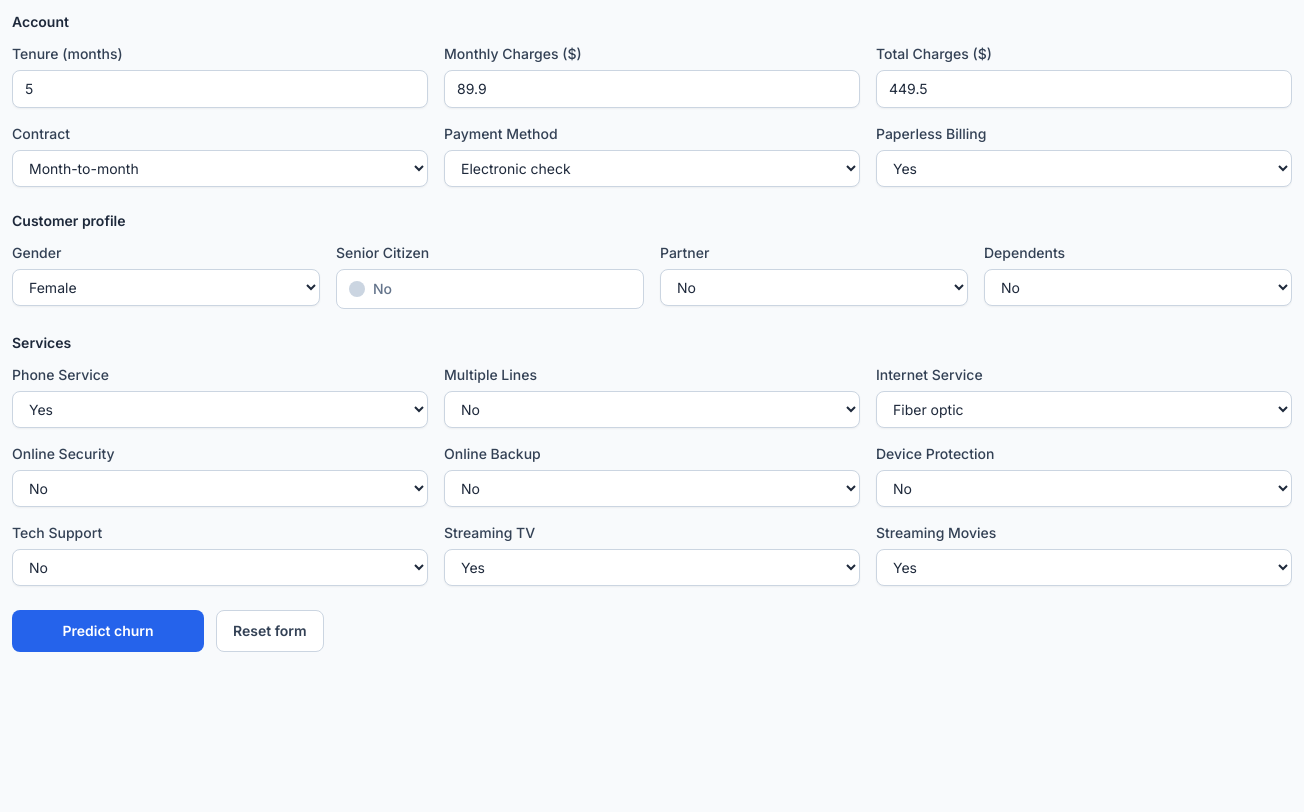
Test case: PredictionForm › resets the form
Replace the text in the number field labelled "Tenure (months)" with "42": coordinates (220, 89) x1=12 y1=70 x2=428 y2=108
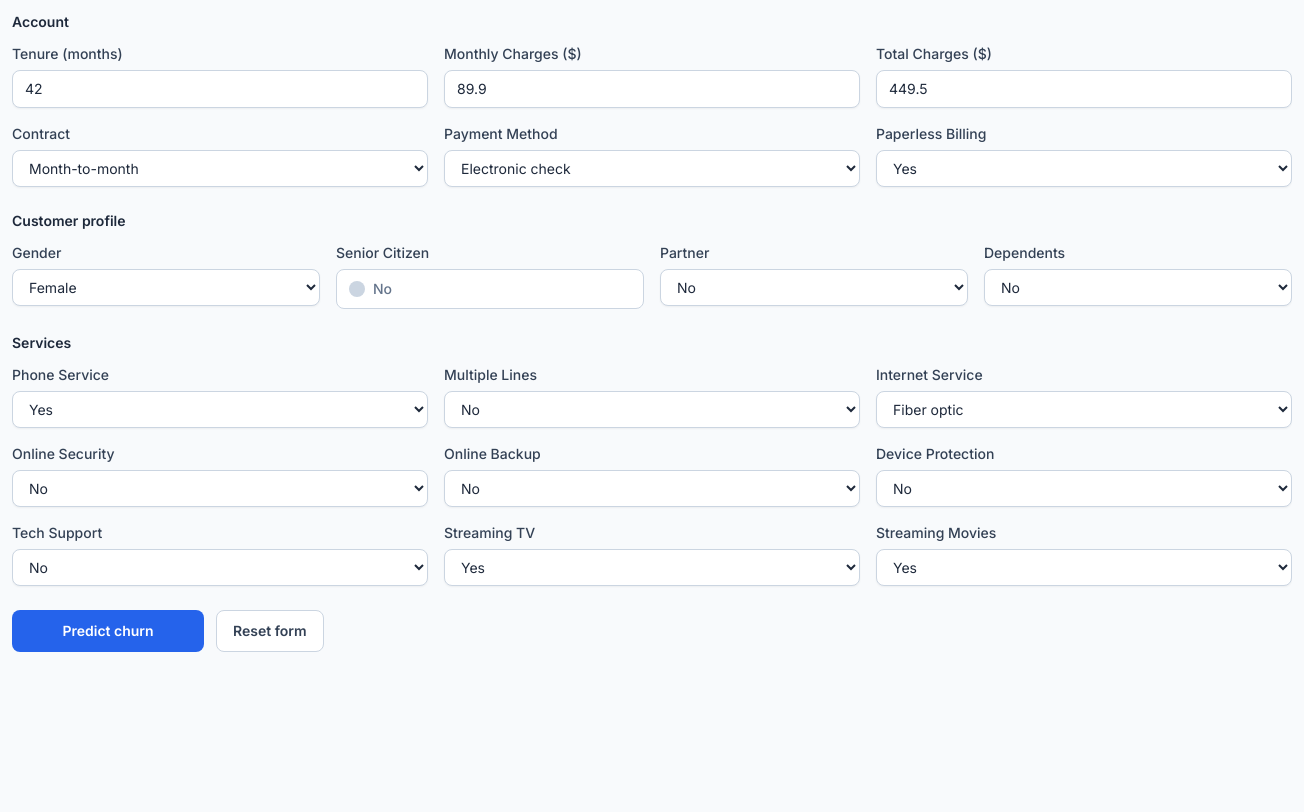
Click the button "Reset form": coordinates (270, 631) x1=216 y1=610 x2=324 y2=652
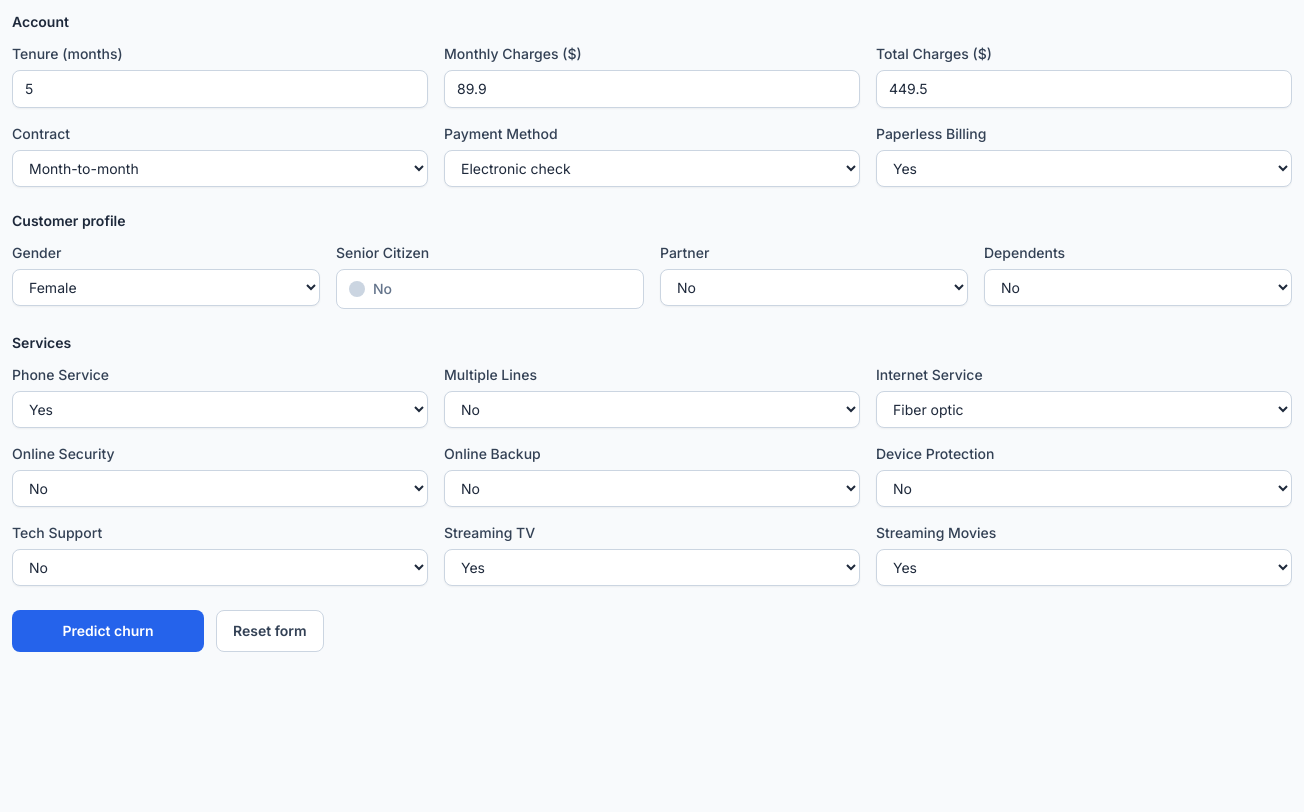
Check: the number field labelled "Tenure (months)" holds "5", box x1=12 y1=70 x2=428 y2=108
